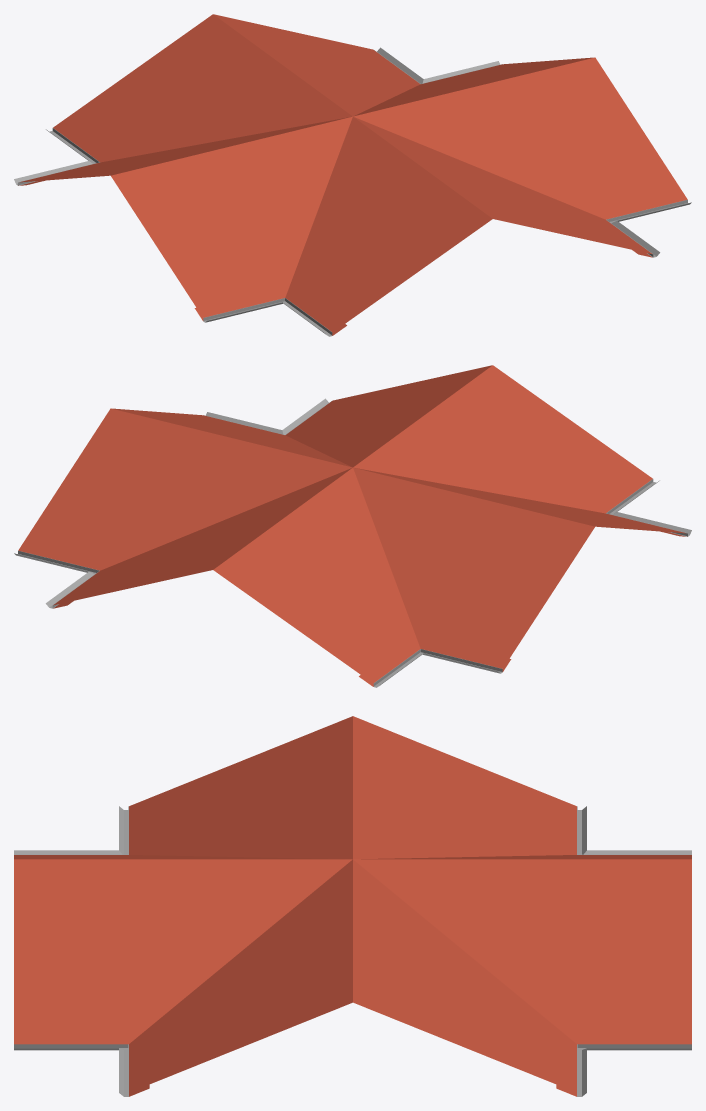
File: MESH_ENV(Telhado_15x15_Formato_+).fbx
The picture shows the model from 3 angles, top to bottom: view 1: azimuth 30°, elevation 25°; view 2: azimuth 150°, elevation 25°; view 3: azimuth 270°, elevation 25°; orthographic projection. The views are drawn at different scales.
Parts seen in each view (by area): view 1: MESH_ENV(Telhado_15x15_Formato_+)_LOD0; view 2: MESH_ENV(Telhado_15x15_Formato_+)_LOD0; view 3: MESH_ENV(Telhado_15x15_Formato_+)_LOD0.
Part boxes in pixels (x1,y1,x2,y2): MESH_ENV(Telhado_15x15_Formato_+)_LOD0: (14,14,691,336); MESH_ENV(Telhado_15x15_Formato_+)_LOD0: (14,365,691,687); MESH_ENV(Telhado_15x15_Formato_+)_LOD0: (14,716,691,1096).
Bounding box in the file's own units: 1500 × 230 × 1500.
